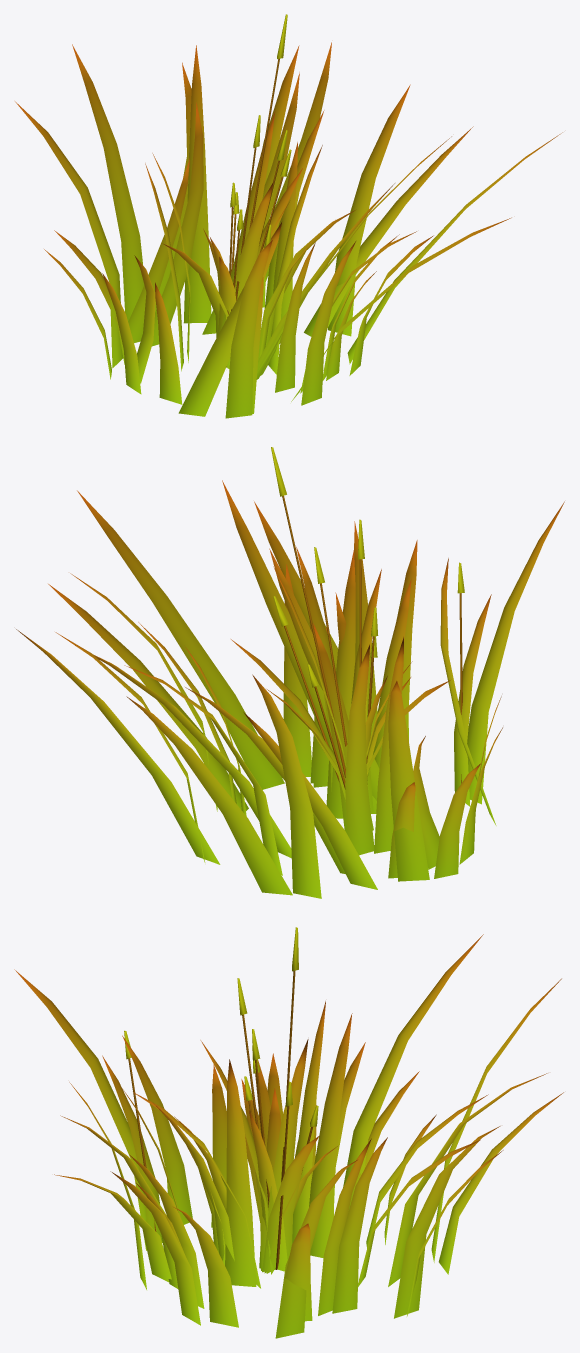
Rendered from samphire.glb.
3 views of the same model, one above another, from view 1: azimuth 30°, elevation 25°; view 2: azimuth 150°, elevation 25°; view 3: azimuth 270°, elevation 25° (orthographic). The views are drawn at different scales.
Visible parts, largest first — view 1: v0, v1, v3, v2; view 2: v1, v0, v3, v2; view 3: v0, v3, v1, v2.
Boxes of the visible parts, x1,y1,x2,y2 form: v0: (72,44,433,418); v1: (128,42,562,416); v3: (15,14,302,413); v2: (44,110,416,393); v1: (16,480,496,895); v0: (55,501,564,898); v3: (231,447,491,881); v2: (138,521,480,878); v0: (14,969,561,1338); v3: (102,927,483,1274); v1: (54,1035,563,1327); v2: (60,1001,419,1315).
Size of the model in its own units: 17.32 by 12.4 by 16.3.
